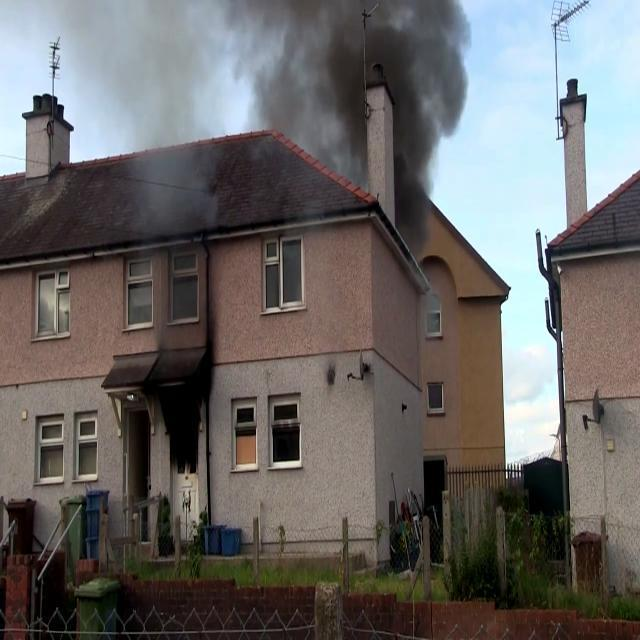Smoke: (242, 0, 476, 231), (108, 0, 239, 362)
